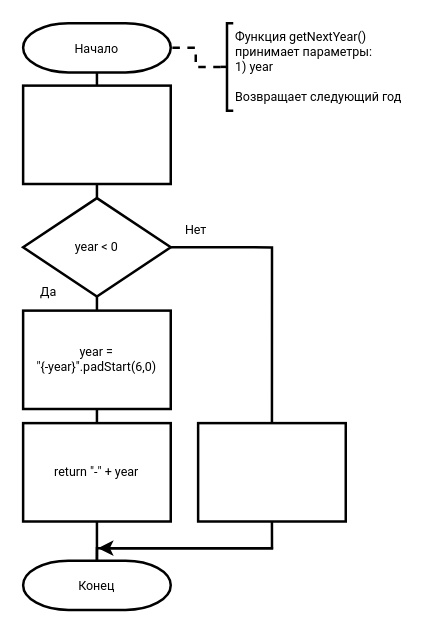
This 424x633 diagram has some shape labels left out. Here are the shapes that lost their labels. From the top down, the centre of each, then its label:
point (96, 134): year = year + 1
point (271, 471): return "{year}".padStart(4,0)
